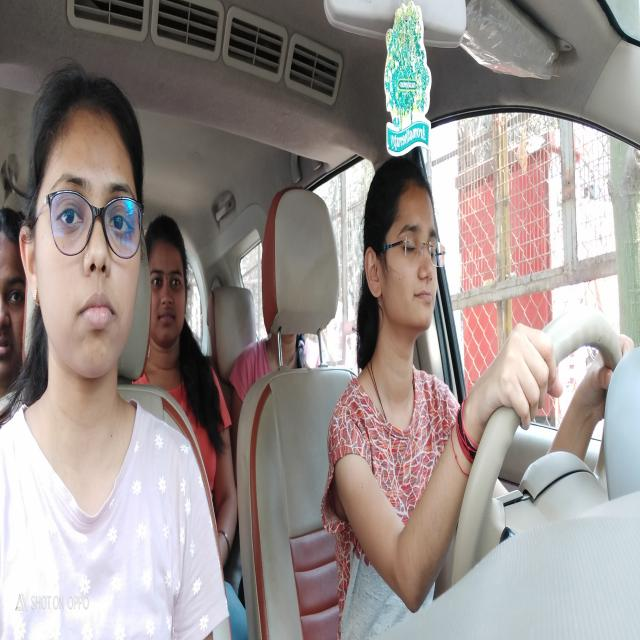drowsy: (361, 147, 448, 366)
person: (24, 37, 148, 407), (143, 199, 201, 368), (0, 190, 33, 388)
